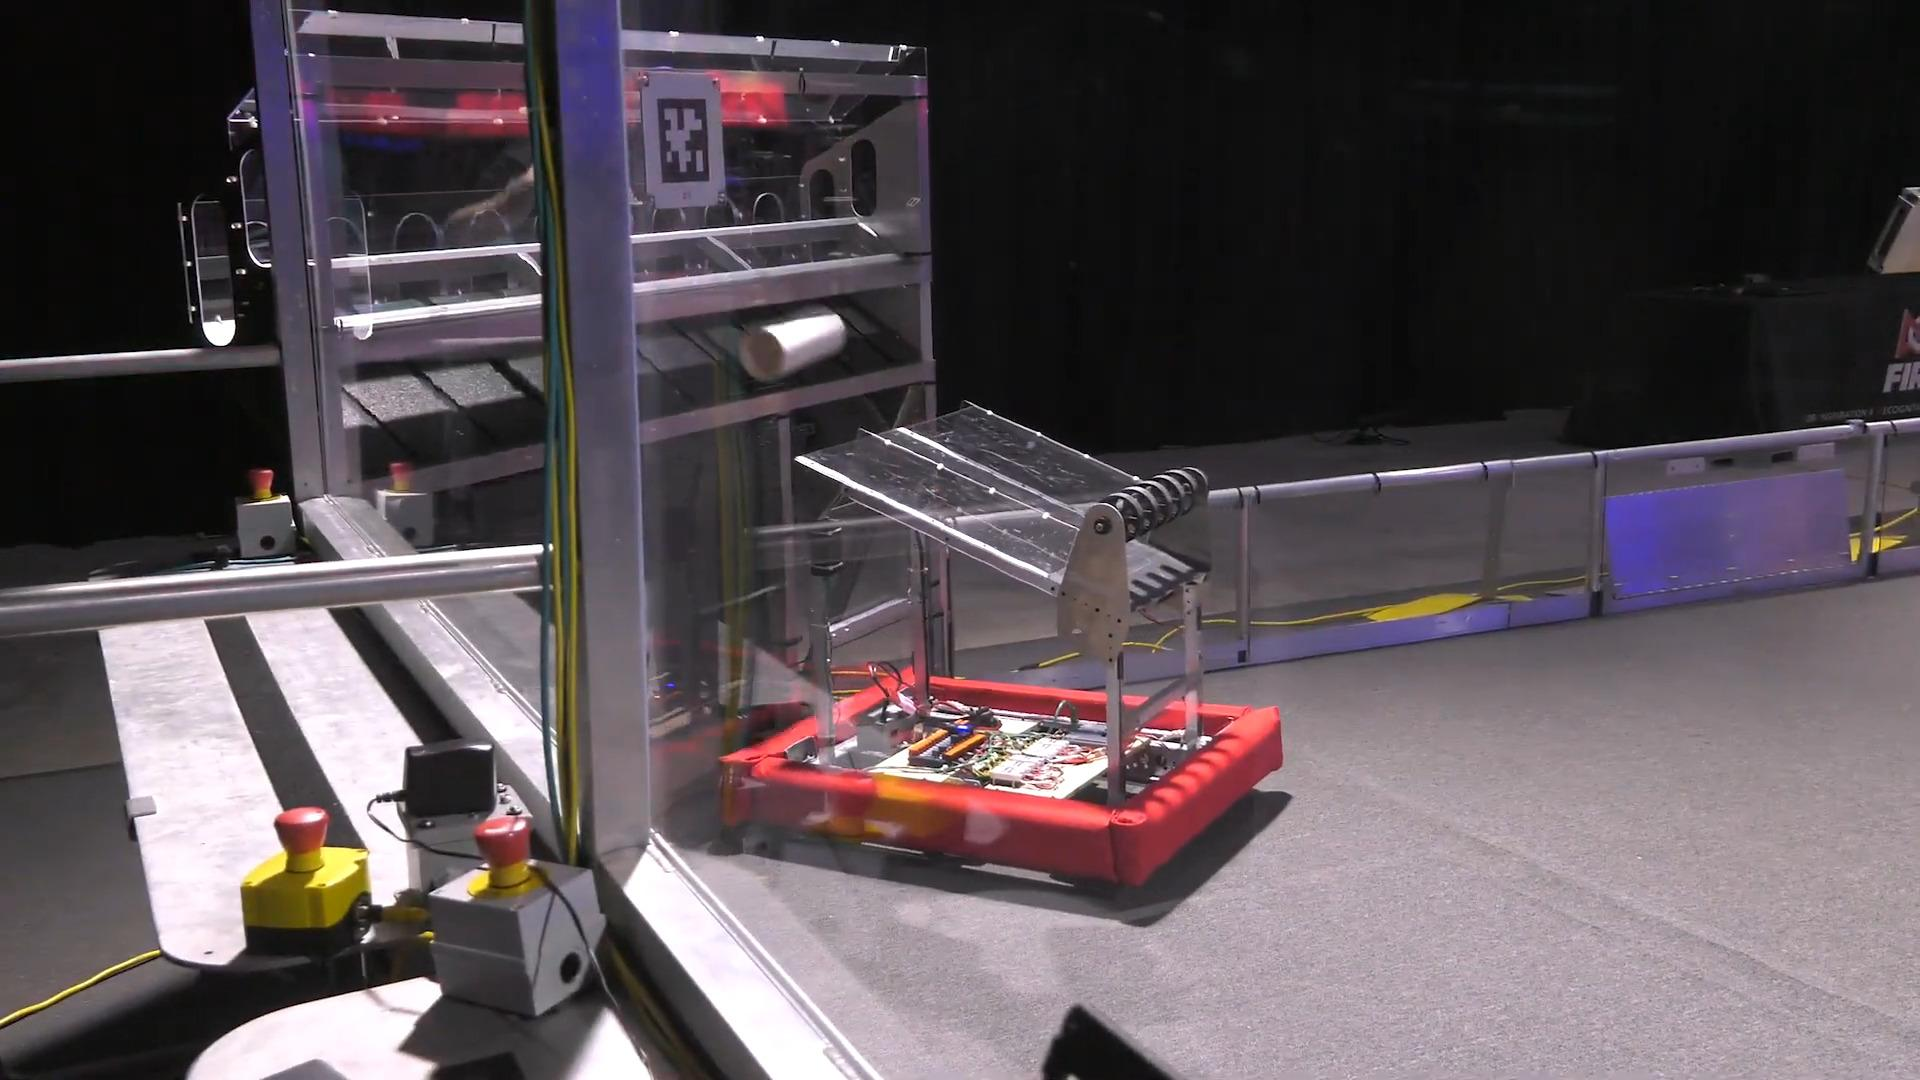coral: (735, 306, 848, 382)
